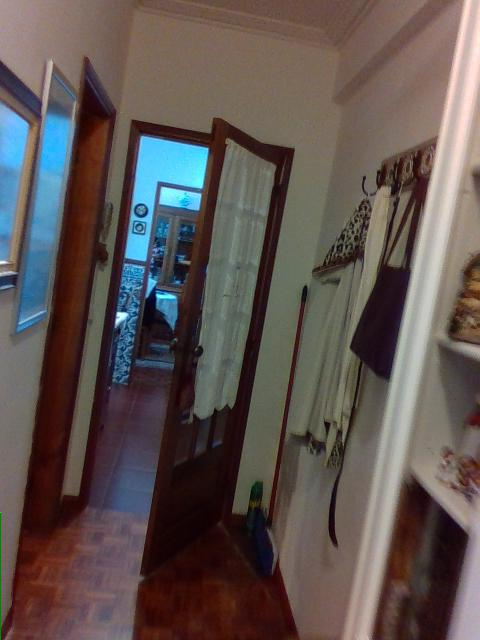semi_door: (77, 114, 298, 575)
